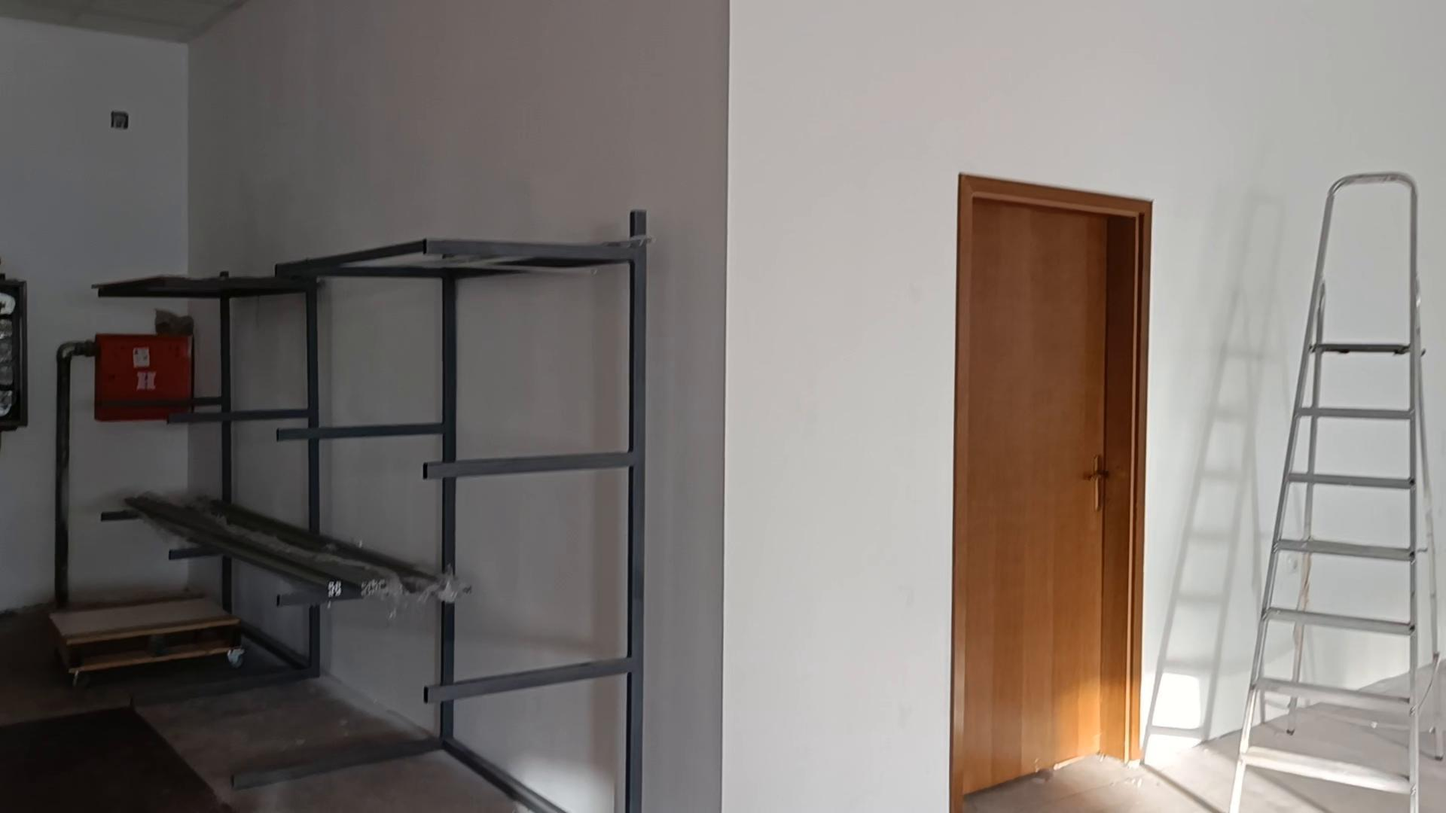ceiling: (0, 0, 248, 43)
floor: (0, 607, 554, 812), (961, 734, 1237, 812)
wall: (0, 0, 1445, 812), (1156, 322, 1303, 758), (456, 471, 624, 674), (69, 368, 215, 596), (459, 273, 625, 456), (456, 681, 622, 812), (321, 281, 440, 424)
